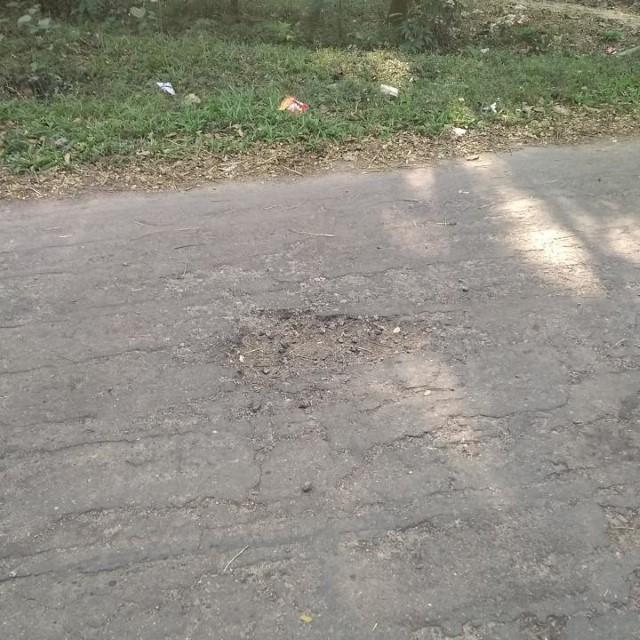Pothole: (226, 309, 491, 395)
